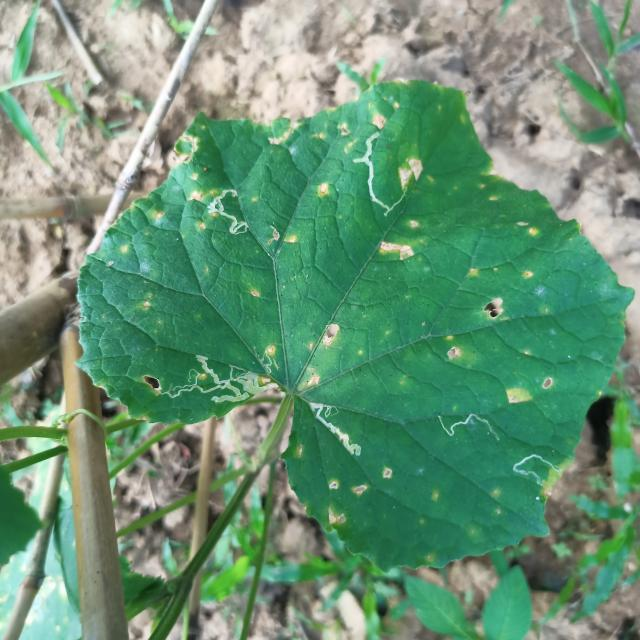disease_cucumber: (466, 263, 552, 327), (169, 134, 212, 238), (327, 466, 398, 525), (268, 117, 360, 153), (365, 79, 407, 129), (503, 370, 553, 408), (380, 220, 420, 262), (306, 318, 344, 352), (266, 226, 304, 251), (395, 158, 425, 188), (296, 365, 322, 391), (515, 218, 539, 242), (443, 334, 463, 362), (318, 178, 337, 200), (149, 208, 165, 226), (141, 292, 156, 310), (248, 286, 264, 302), (120, 243, 132, 256), (266, 344, 278, 354), (260, 376, 272, 385)
